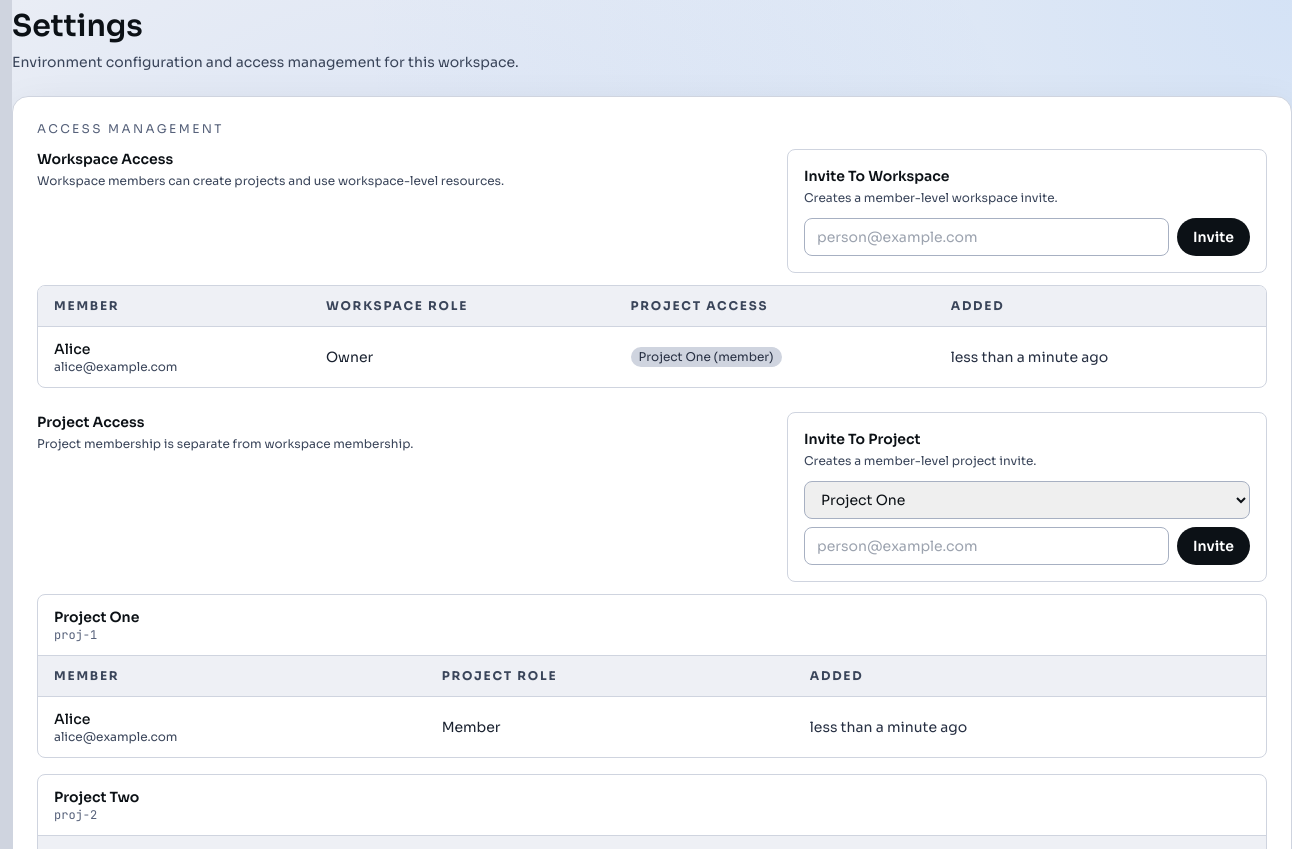
Test: SettingsPage › creates workspace and project invites for workspace owners
In the field with placeholder "person@example.com" below "Creates a member-level workspace invite.": (986, 237) [804,218,1169,256], type "workspace@example.com"
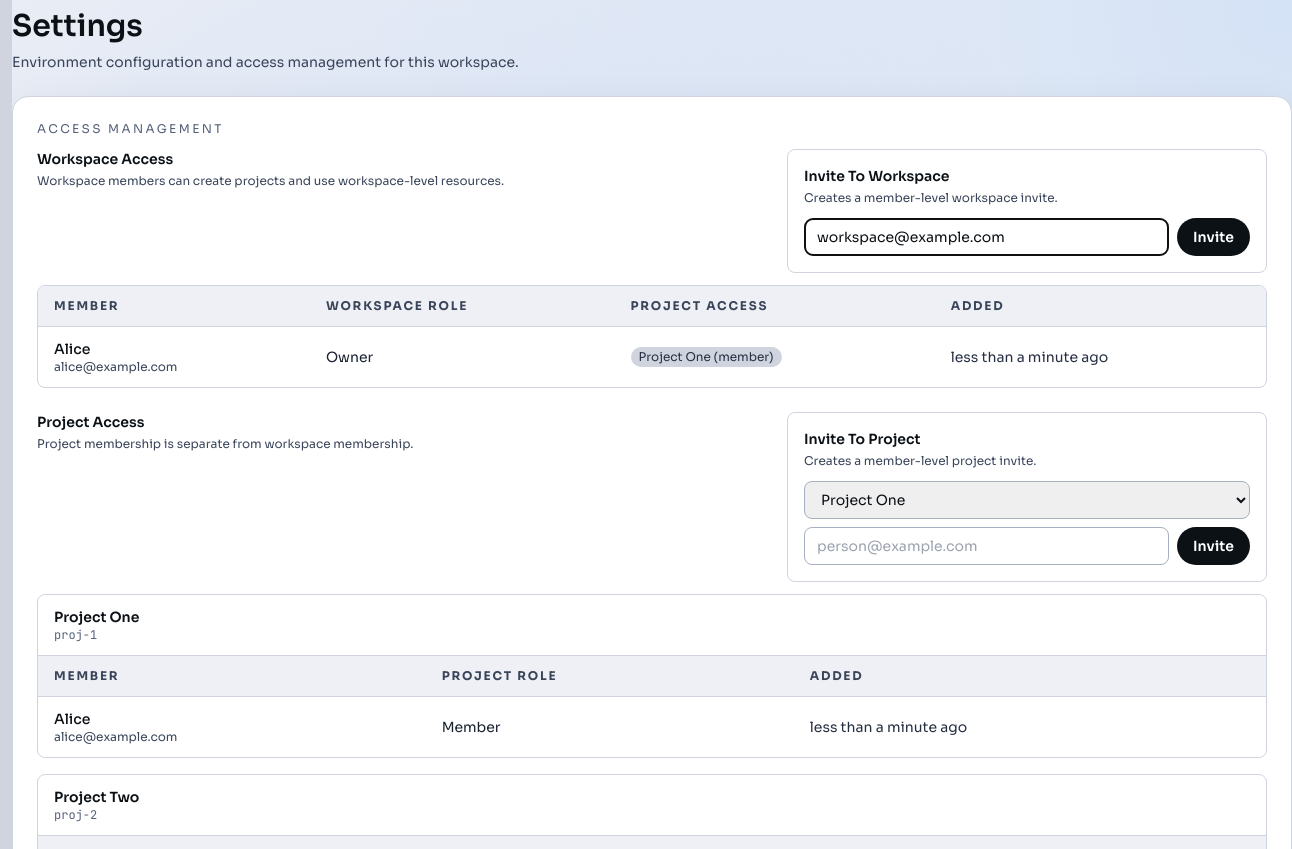
Click the button "Invite" below "Creates a member-level workspace invite.": (1214, 237) [1177,218,1250,256]
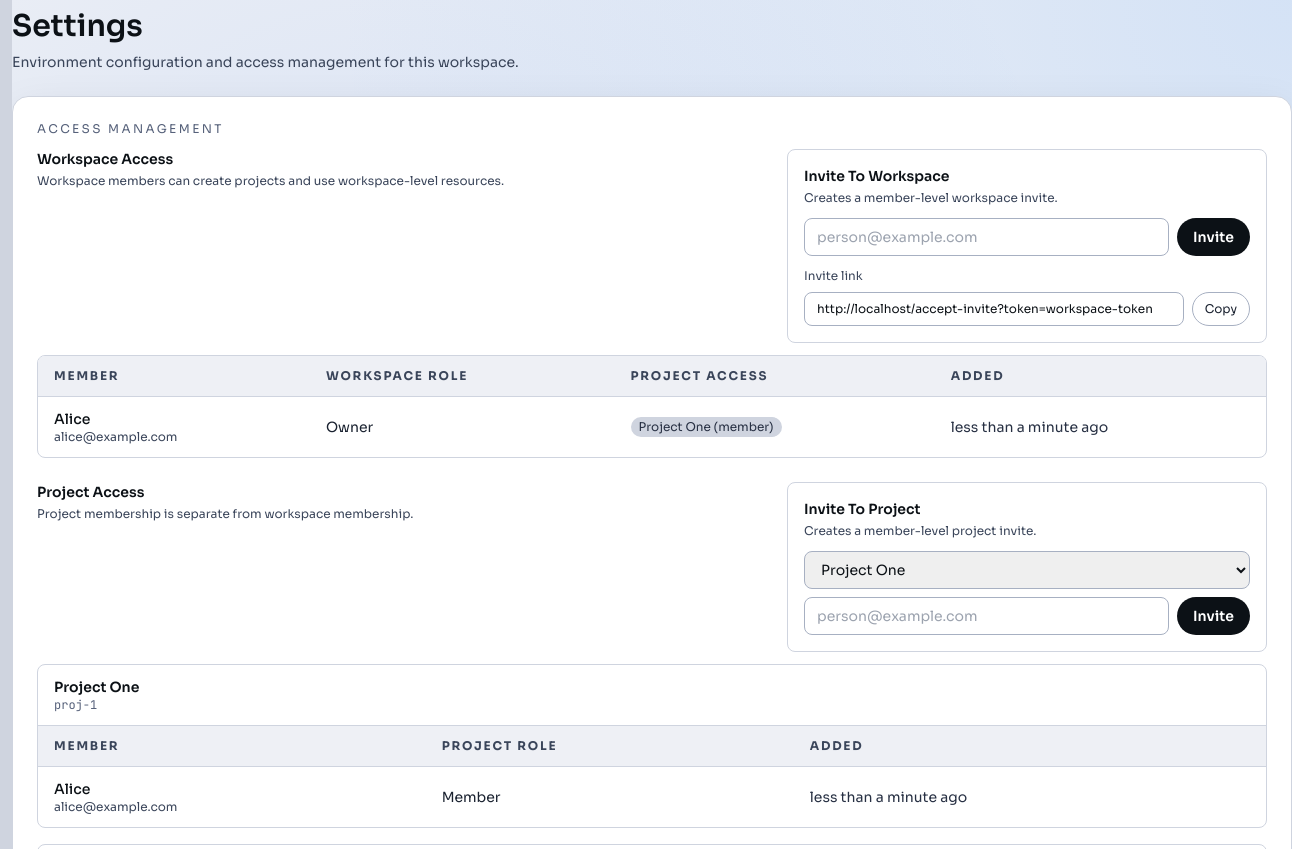
Now the field showing "workspace-token" is shown, box [804,292,1184,326]
Select "Project Two" in the dropdown: (1027, 570) [804,551,1250,589]
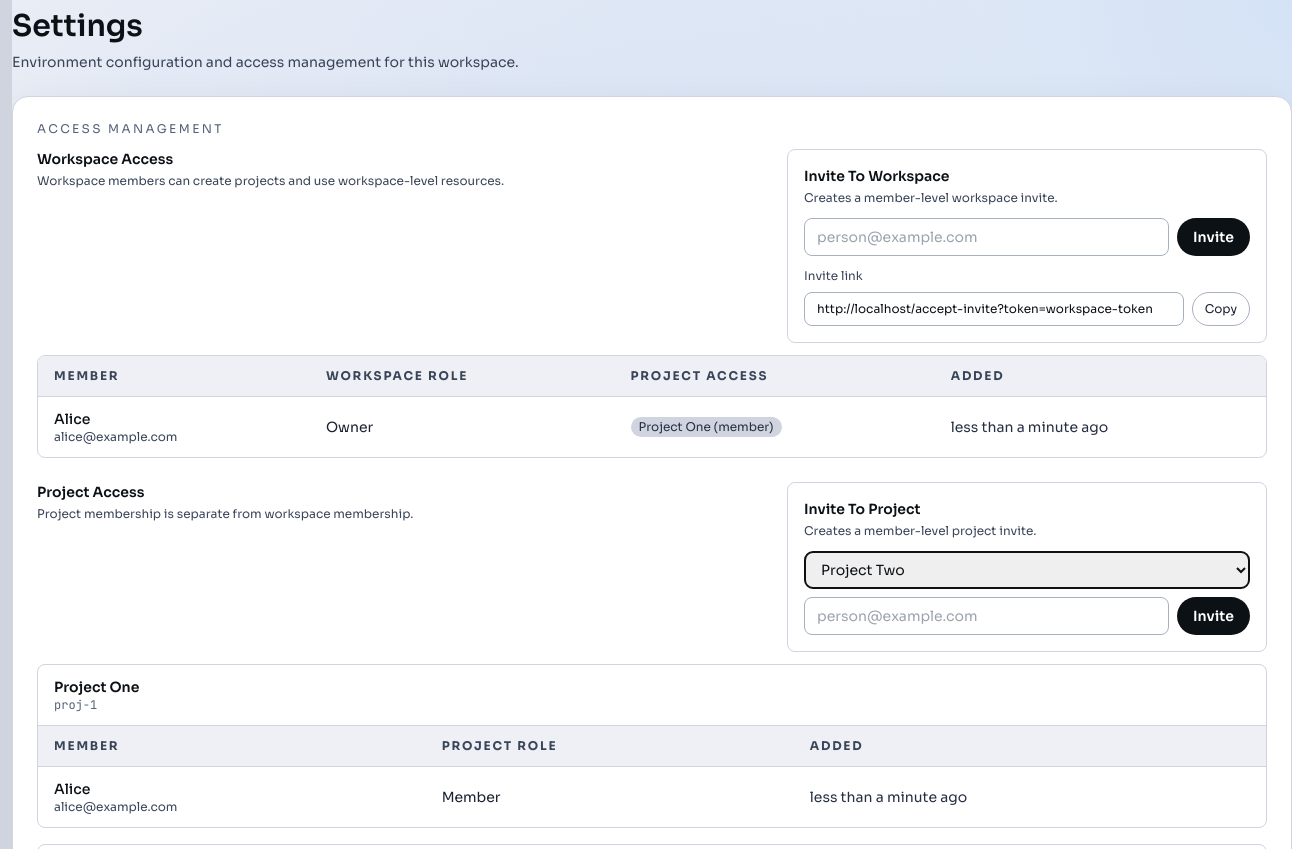
In the field with placeholder "person@example.com" below "Creates a member-level project invite.": (986, 616) [804,597,1169,635], type "project@example.com"
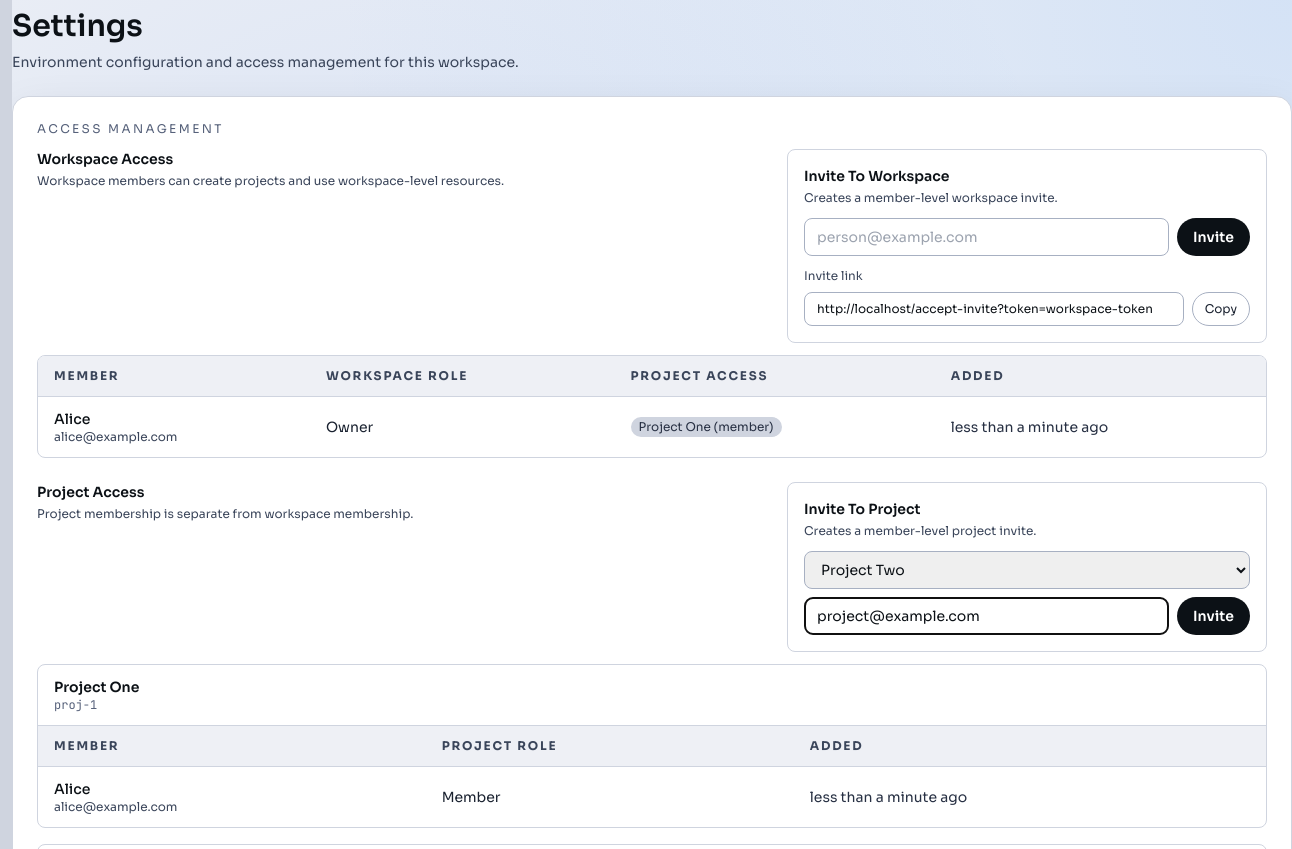
Click the button "Invite" below "Creates a member-level project invite.": (1214, 616) [1177,597,1250,635]
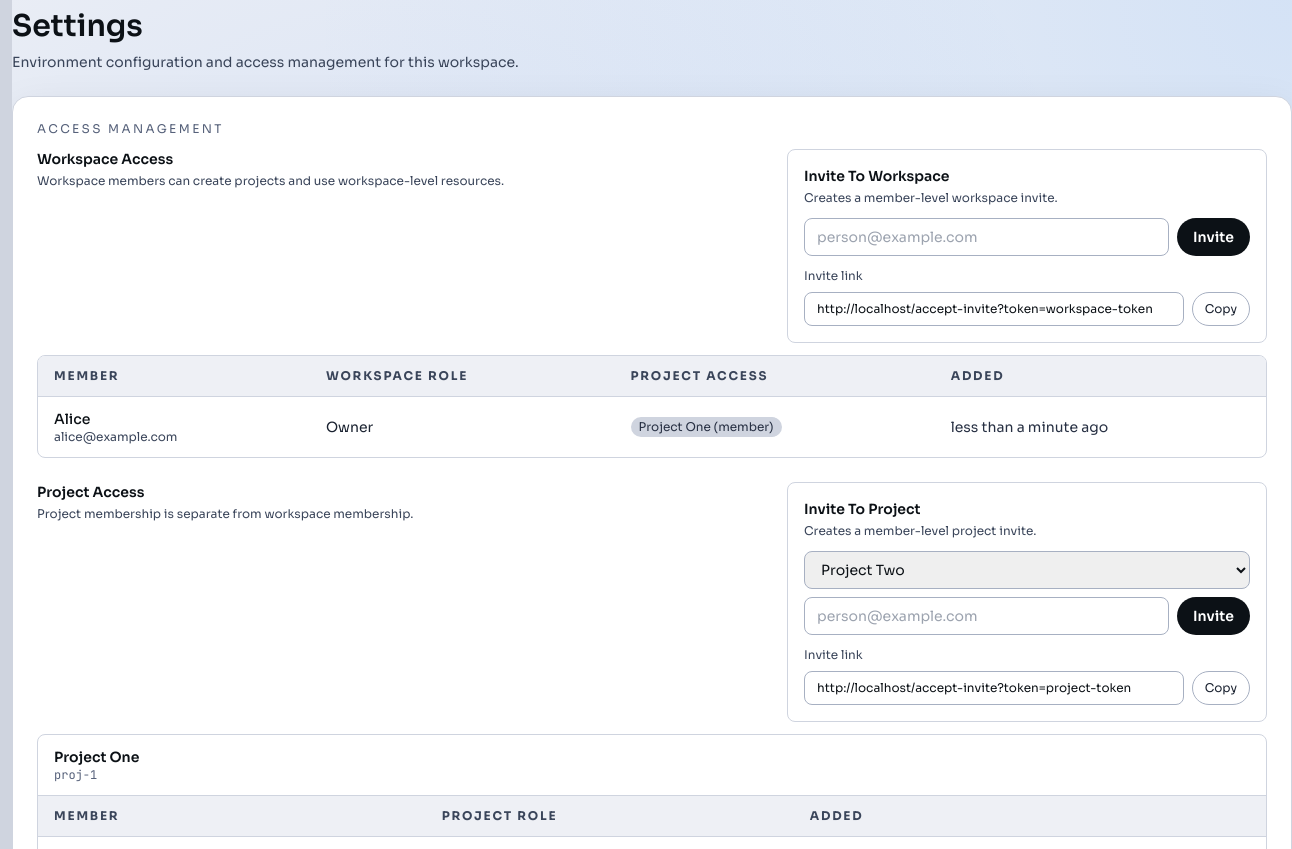
Now the field showing "project-token" below "Creates a member-level project invite." is shown, box [804,671,1184,705]
